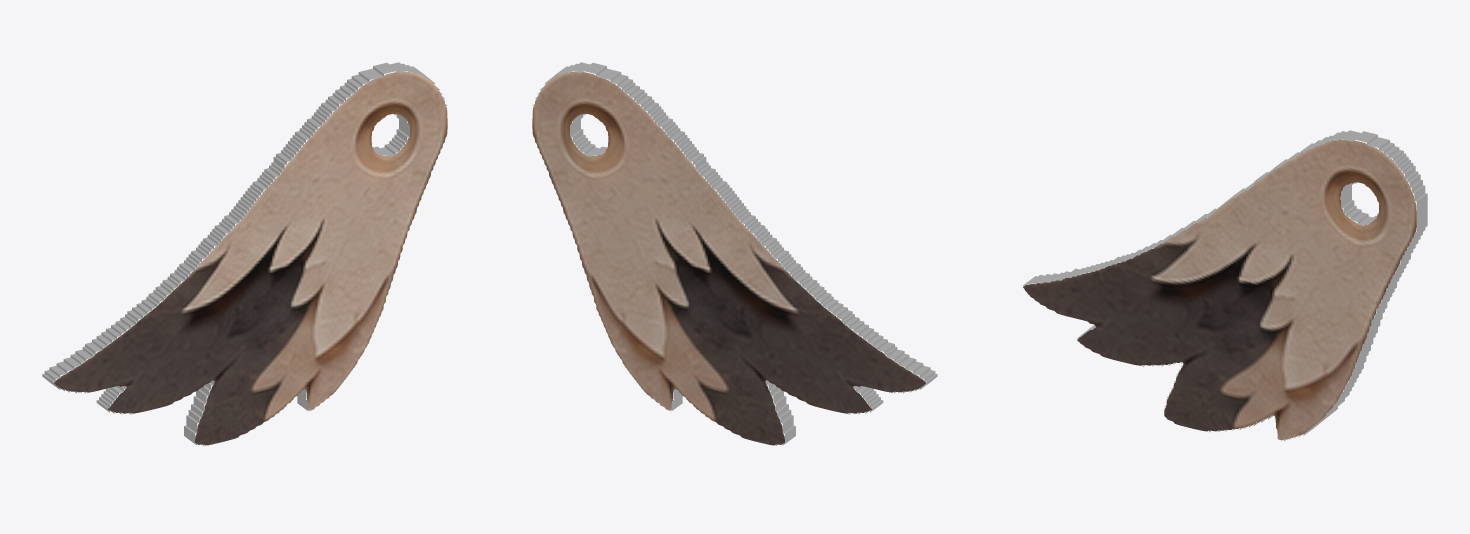
File: CovertsLeft.glb
3 renders of one model, left to right at view 1: azimuth 30°, elevation 25°; view 2: azimuth 150°, elevation 25°; view 3: azimuth 330°, elevation 25°, orthographic.
Visible parts, largest first — view 1: PaperVolume; view 2: PaperVolume; view 3: PaperVolume.
Boxes of the visible parts, bbox=[...] form: PaperVolume: bbox=[42, 62, 447, 445]; PaperVolume: bbox=[532, 62, 937, 445]; PaperVolume: bbox=[1022, 130, 1427, 440].
Size of the model in its own units: 1.91 by 1.57 by 0.08.
3 materials, 2 textured.
